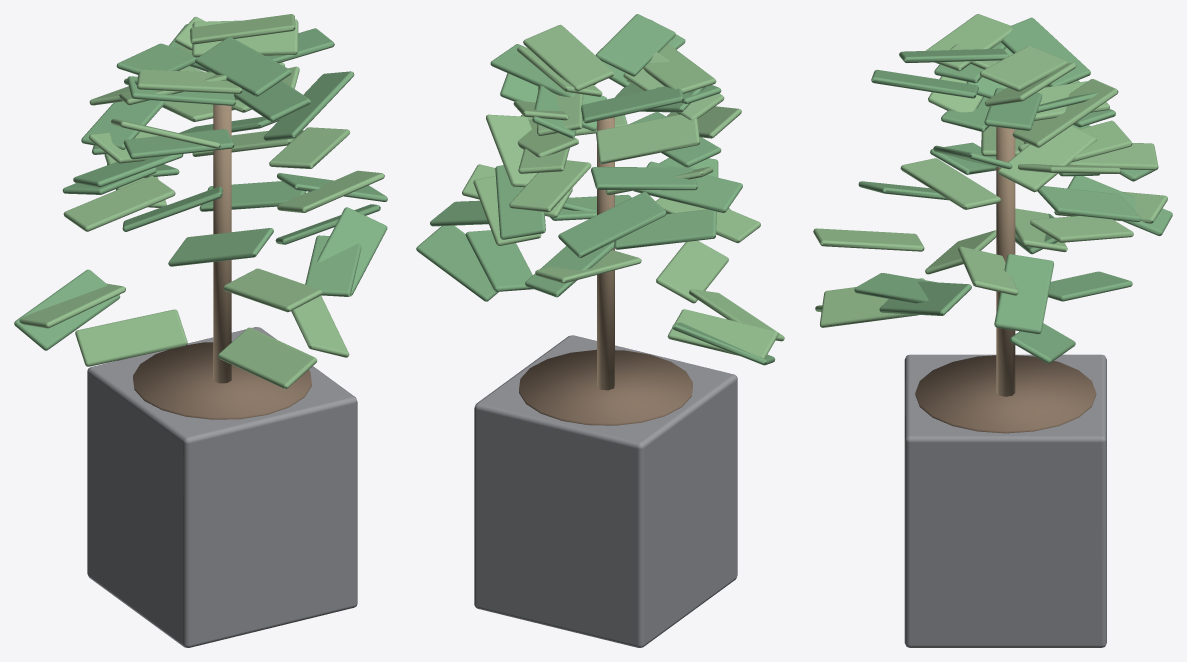
File: trabajo.planta.fbx
The picture shows the model from 3 angles, left to right: view 1: azimuth 30°, elevation 25°; view 2: azimuth 150°, elevation 25°; view 3: azimuth 270°, elevation 25°; orthographic projection. The views are drawn at different scales.
Parts seen in each view (by area): view 1: Macetero, Tierra, Tronco, Hoja.001, Hoja.029, Hoja.014, Hoja.041, Hoja.034, Hoja.022, Hoja.015, Hoja.008, Hoja.018 (+25 smaller); view 2: Macetero, Tierra, Hoja.023, Hoja.040, Hoja.005, Hoja.042, Tronco, Hoja.009, Hoja.014, Hoja.029, Hoja.044, Hoja.010 (+28 smaller); view 3: Macetero, Tierra, Tronco, Hoja.016, Hoja.043, Hoja.031, Hoja.032, Hoja.005, Hoja.003, Hoja.027, Hoja.028, Hoja.011 (+26 smaller).
Boxes of the visible parts, x1,y1,x2,y2 form: Macetero: (87,327,357,647); Tierra: (133,342,311,419); Tronco: (213,104,231,383); Hoja.001: (75,309,187,366); Hoja.029: (218,327,317,388); Hoja.014: (195,37,291,96); Hoja.041: (63,176,175,231); Hoja.034: (14,269,120,350); Hoja.022: (168,228,273,266); Hoja.015: (223,268,322,312); Hoja.008: (317,207,387,296); Hoja.018: (305,235,361,296); Macetero: (474,335,737,647); Tierra: (519,349,692,425); Hoja.023: (596,114,699,164); Hoja.040: (558,192,666,258); Hoja.005: (523,24,614,91); Hoja.042: (416,225,498,301); Tronco: (597,117,614,390); Hoja.009: (667,309,778,358); Hoja.014: (595,14,675,76); Hoja.029: (656,240,728,303); Hoja.044: (614,209,716,249); Hoja.010: (465,230,533,291); Macetero: (904,354,1106,647); Tierra: (915,355,1096,433); Tronco: (996,127,1015,396); Hoja.016: (994,254,1053,334); Hoja.043: (998,125,1096,192); Hoja.031: (900,158,1000,209); Hoja.032: (1037,186,1140,222); Hoja.005: (979,46,1067,91); Hoja.003: (820,278,924,327); Hoja.027: (1012,79,1118,147); Hoja.028: (1001,17,1090,86); Hoja.011: (1030,216,1133,242).
Size of the model in its own units: 0.7849 by 1.17 by 0.6755.
